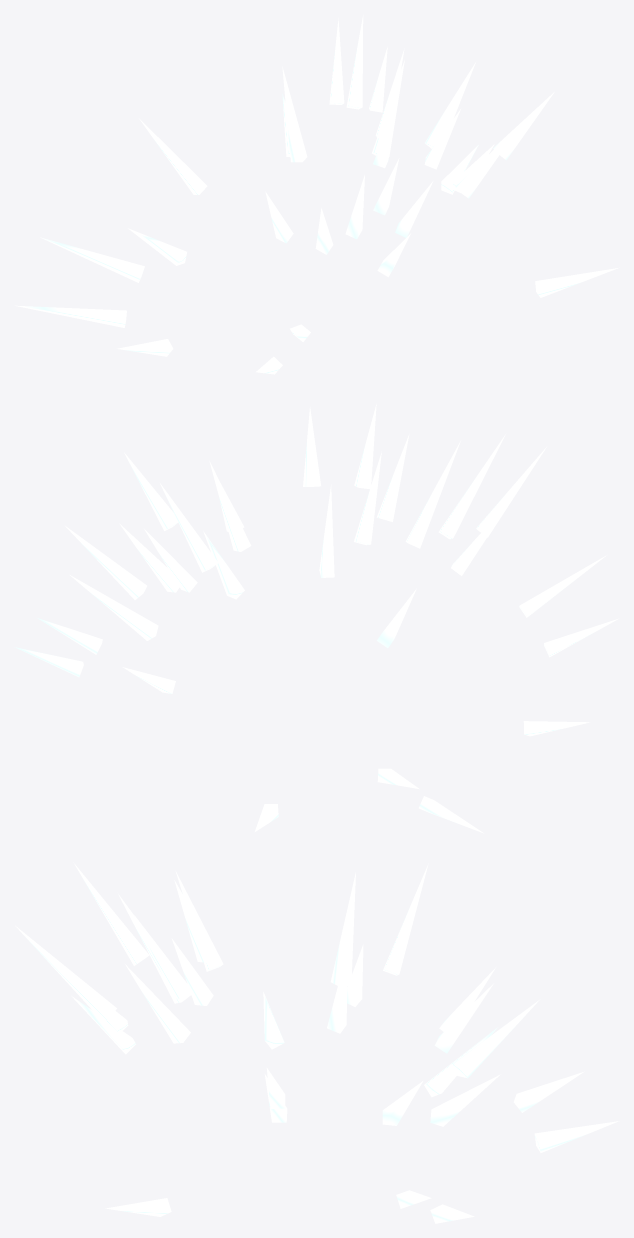
File: fx_burst_mutant.glb
3 renders of one model, top to bottom at view 1: azimuth 30°, elevation 25°; view 2: azimuth 150°, elevation 25°; view 3: azimuth 270°, elevation 25°, orthographic. The views are drawn at different scales.
Visible parts, largest first — view 1: fx_burst_mutant; view 2: fx_burst_mutant; view 3: fx_burst_mutant.
Boxes of the visible parts, x1=… form: fx_burst_mutant: x1=15, y1=15, x2=619, y2=374; fx_burst_mutant: x1=14, y1=404, x2=618, y2=833; fx_burst_mutant: x1=15, y1=862, x2=619, y2=1223.
Bounding box in the file's own units: 2.02 × 1.13 × 2.01.
